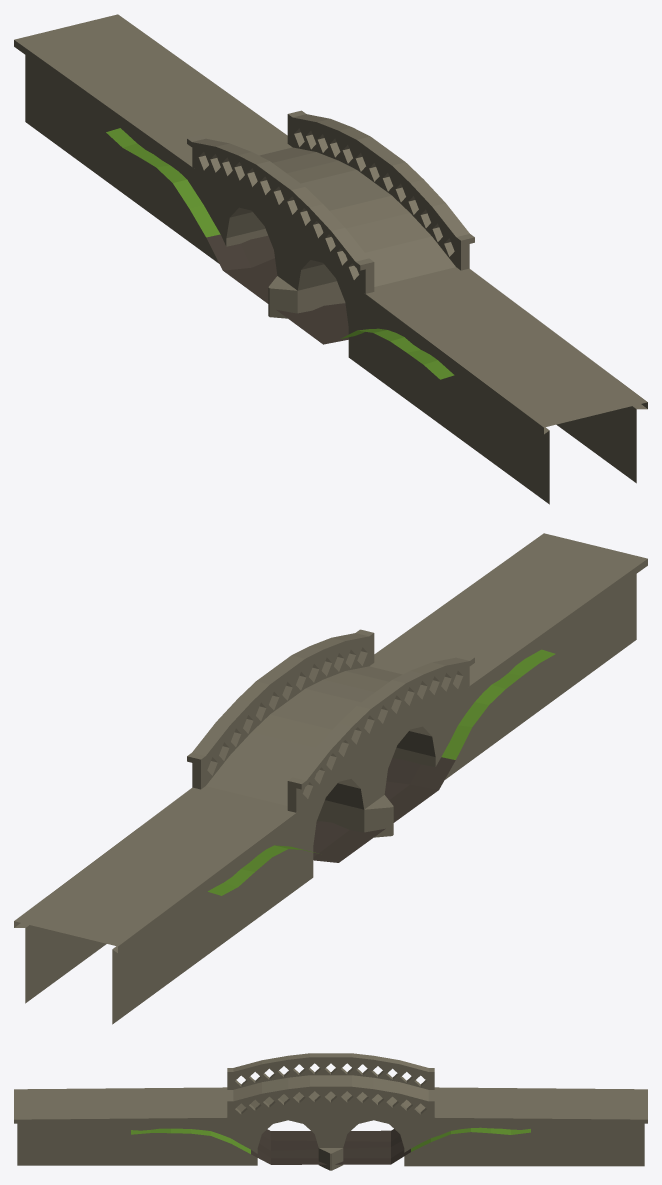
Rendered from TerrainSegBridge.fbx.
3 views of the same model, one above another, from view 1: azimuth 30°, elevation 25°; view 2: azimuth 150°, elevation 25°; view 3: azimuth 270°, elevation 25° (orthographic). The views are drawn at different scales.
Parts seen in each view (by area): view 1: Bridge, TerrainSegBridge; view 2: Bridge, TerrainSegBridge; view 3: Bridge, TerrainSegBridge.
Boxes of the visible parts, x1,y1,x2,y2 form: Bridge: (14,14,647,504); TerrainSegBridge: (106,128,454,379); Bridge: (14,533,647,1024); TerrainSegBridge: (208,649,555,895); Bridge: (14,1053,647,1170); TerrainSegBridge: (131,1127,530,1164).
Bounding box in the file's own units: 856 × 924 × 6340.
